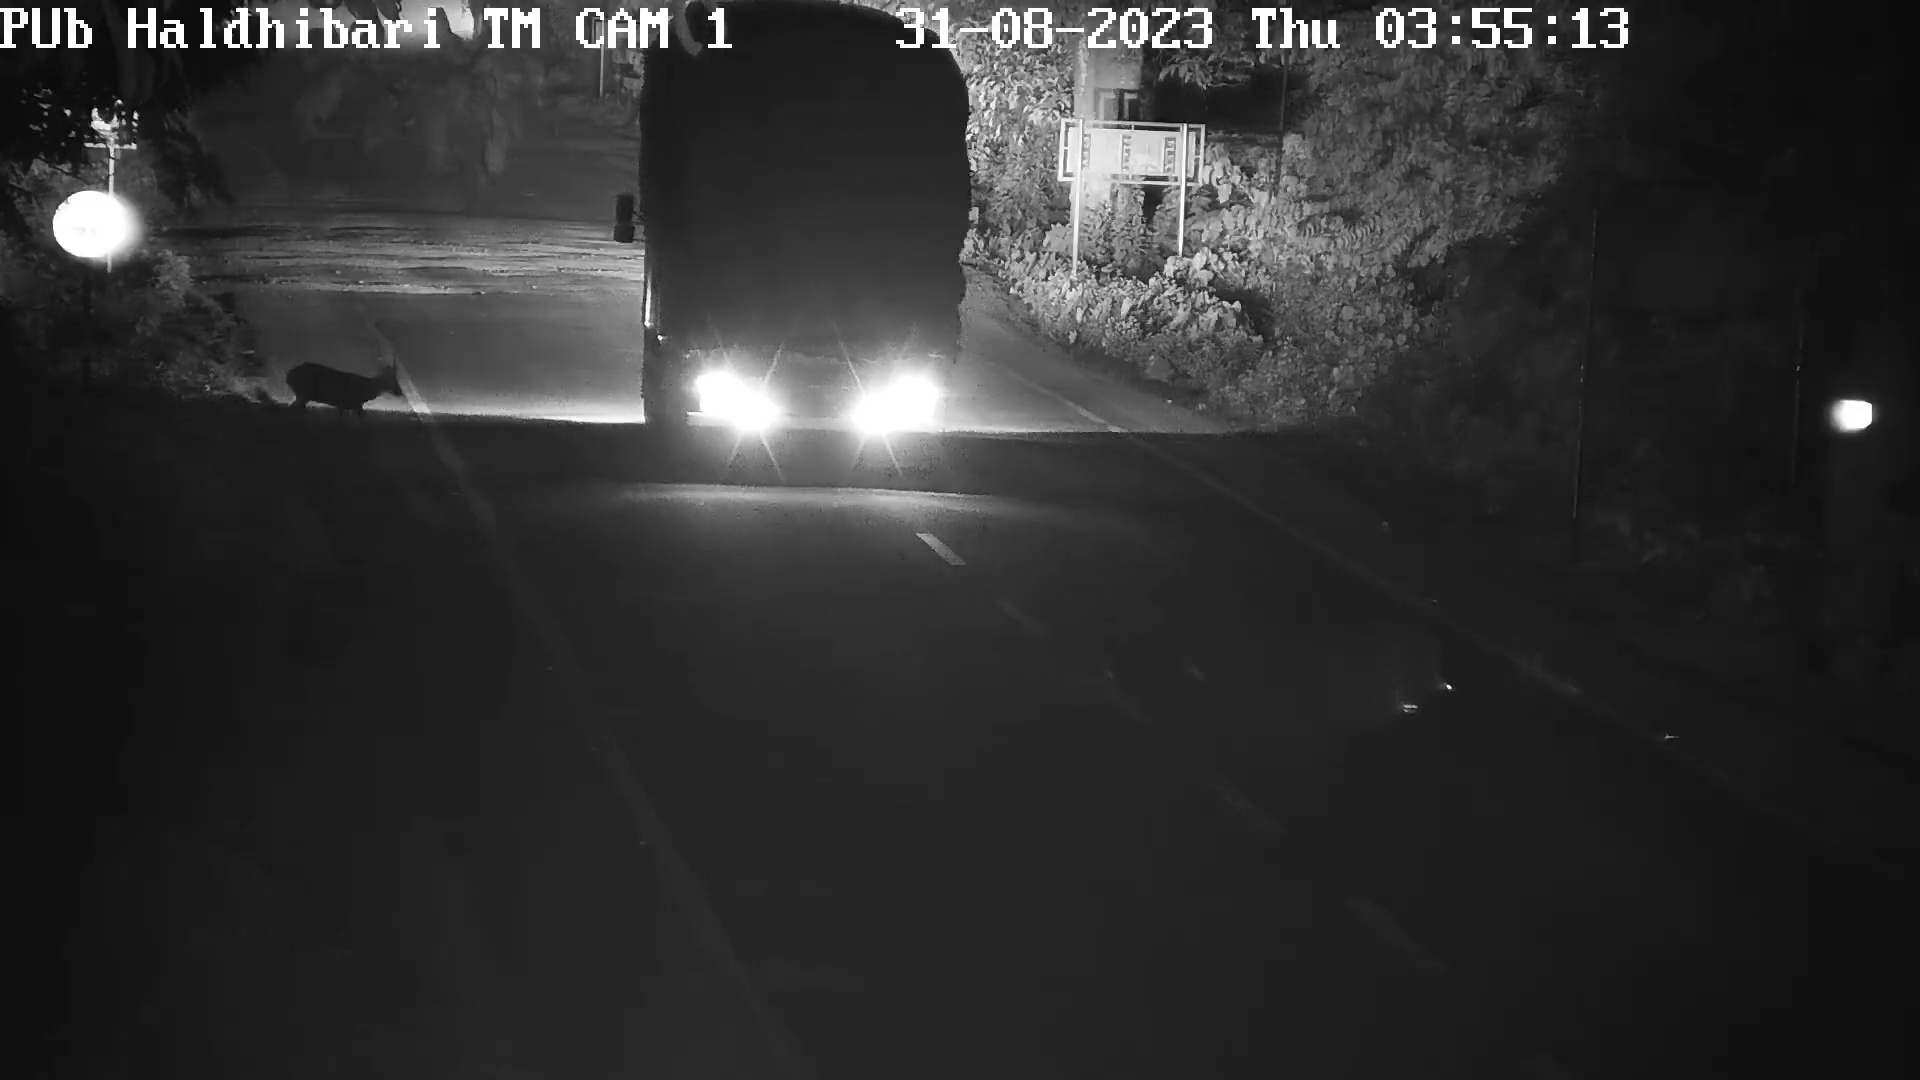deers: (278, 348, 402, 415)
